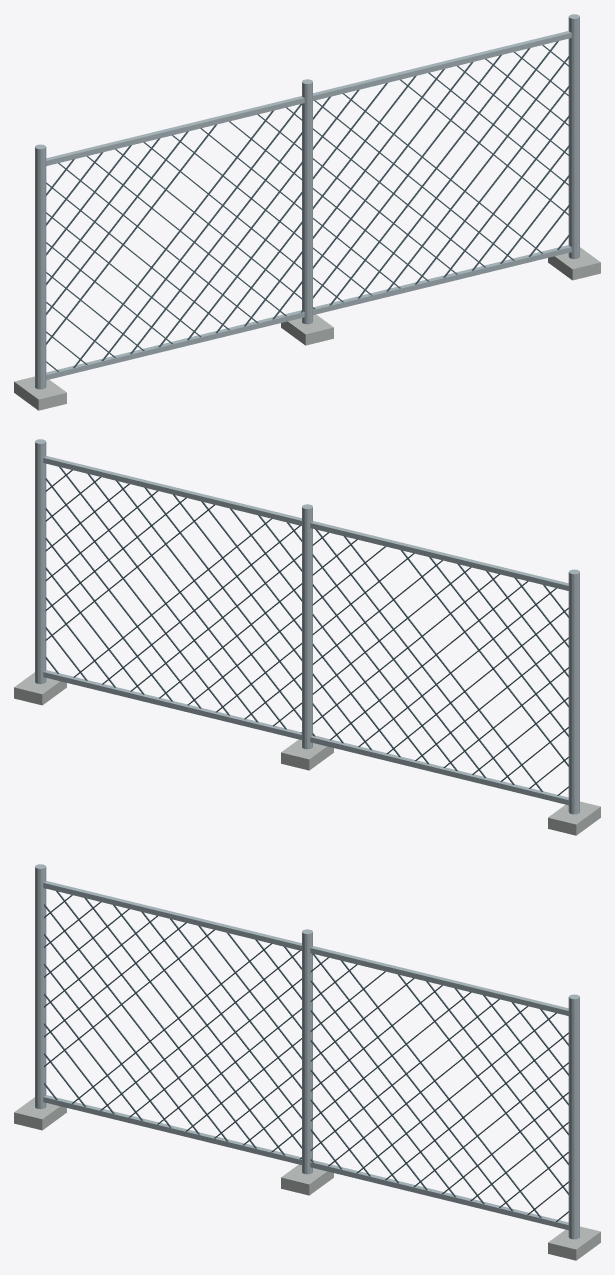
Rendered from chainlink-fence.glb.
The picture shows the model from 3 angles, top to bottom: view 1: azimuth 30°, elevation 25°; view 2: azimuth 150°, elevation 25°; view 3: azimuth 330°, elevation 25°; orthographic projection.
Visible parts, largest first — view 1: DiamondMesh, FencePosts, FenceFeet; view 2: DiamondMesh, FencePosts, FenceFeet; view 3: DiamondMesh, FencePosts, FenceFeet.
Boxes of the visible parts, x1,y1,x2,y2 form: DiamondMesh: [46, 41, 570, 371]; FencePosts: [35, 14, 579, 389]; FenceFeet: [14, 247, 600, 410]; DiamondMesh: [45, 467, 568, 795]; FencePosts: [35, 439, 579, 814]; FenceFeet: [14, 672, 600, 835]; DiamondMesh: [44, 891, 568, 1221]; FencePosts: [35, 864, 579, 1239]; FenceFeet: [14, 1097, 600, 1260].
Bounding box in the file's own units: 6.32 × 2.7 × 0.48.
